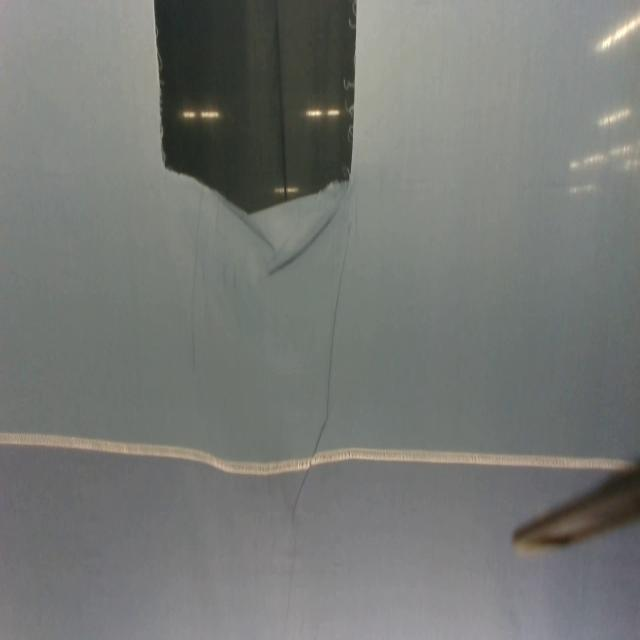crease: (264, 208, 341, 280), (328, 222, 351, 414), (293, 414, 331, 516)
hole: (152, 0, 358, 217)
